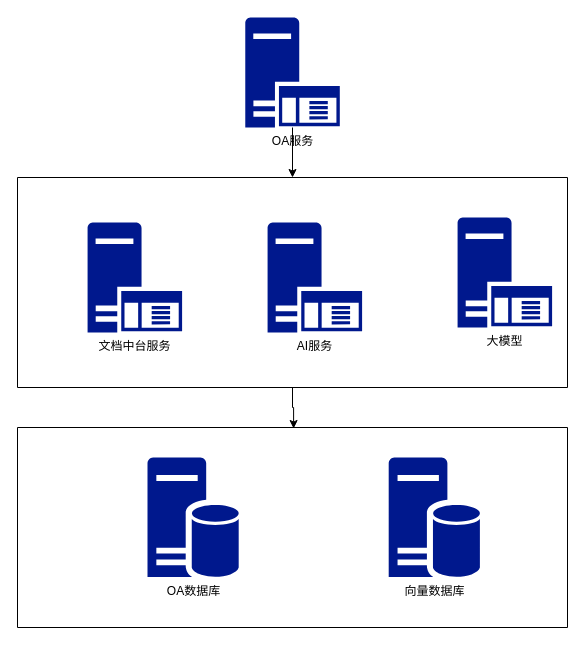
Image size: 585x665. Some labels were removed from this diagram. The shapes that lost their labels are listed below. From the top down, each one's box as (x1, y1, x2, y2) in pixels, then its label:
(16, 176, 568, 388): 应用服务
(16, 426, 568, 628): 数据服务
